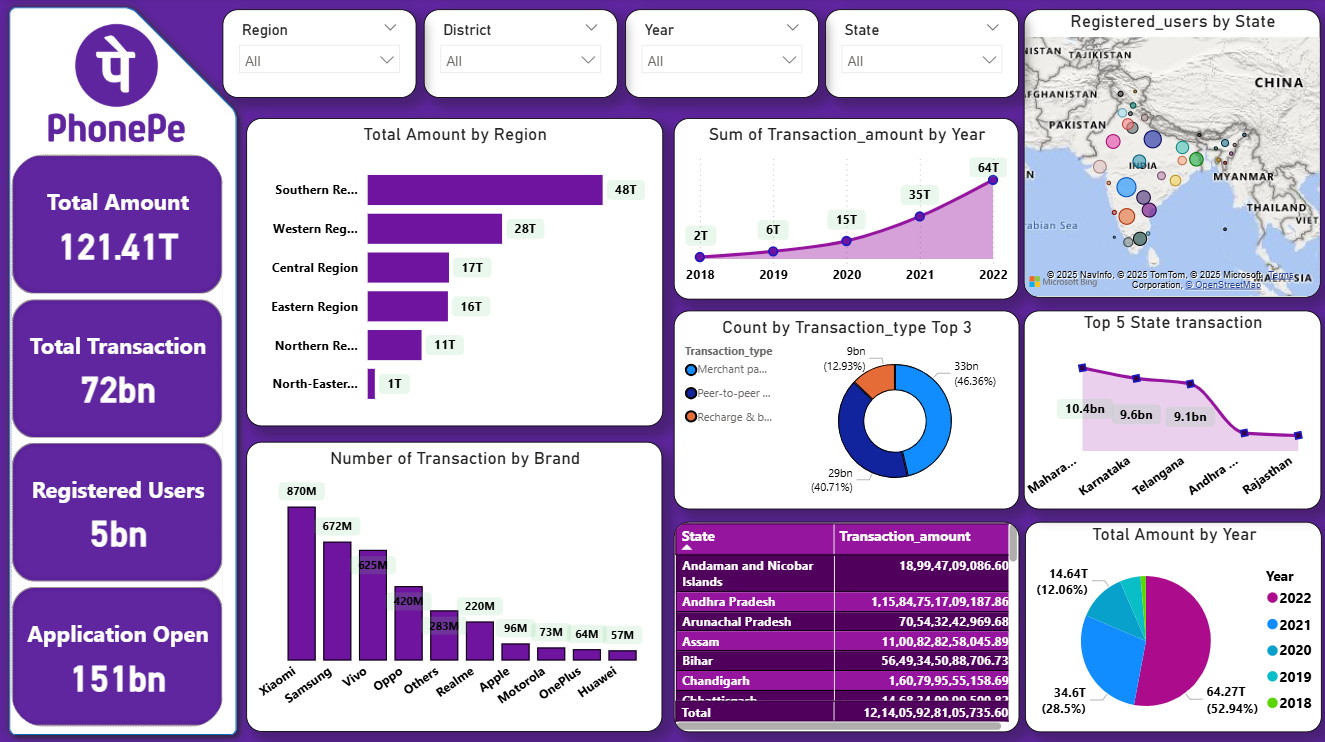

Layout of this report page (visuals, bound fields, positions):
{"tool":"powerbi","page":{"name":"Page 1","canvas":[1280,720],"ordinal":0},"visuals":[{"type":"shape","box":[0,0,237.4,720.4],"z":0},{"type":"image","box":[17.8,15.1,189.4,133.1],"z":1000},{"type":"cardVisual","fields":{"Data":["map_trans.Total Amount","map_trans.Total transaction","map_user.Total Users","map_user.Active Users"]},"box":[8.2,148.2,209.9,559.9],"z":2000},{"type":"barChart","title":"Total Amount by Region","fields":{"Category":["map_trans.Region"],"Y":["Sum(map_trans.Transaction_amount)"]},"box":[237.4,115.3,402.1,297.8],"z":3000},{"type":"columnChart","title":" Number of Transaction by Brand","fields":{"Category":["phonepe datasets.Brand"],"Y":["Sum(phonepe datasets.Transaction_count)"]},"box":[237.7,428.3,401.7,279.9],"z":4000},{"type":"lineChart","fields":{"Category":["map_trans.Year"],"Y":["Sum(map_trans.Transaction_amount)"]},"box":[650.3,115.8,333,174.9],"z":5000},{"type":"donutChart","title":"Count by Transaction_type Top 3","fields":{"Category":["phonepe dataset.Transaction_type"],"Y":["Sum(phonepe dataset.Transaction_count)"]},"box":[650.4,301.9,333.4,192.1],"z":6000},{"type":"tableEx","fields":{"Values":["map_trans.State","Sum(map_trans.Transaction_amount)"]},"box":[650.4,505,333.4,203.1],"z":7000},{"type":"map","title":" Registered_users by State ","fields":{"Size":["Sum(map_user.Registered_users)"],"Category":["map_user.State"],"Series":["map_user.State"]},"box":[988,11,286.8,278.6],"z":8000},{"type":"pieChart","fields":{"Category":["map_trans.Year"],"Y":["map_trans.Total Amount"]},"box":[989.4,505,286.8,203.1],"z":9000},{"type":"stackedAreaChart","title":"Top 5 State transaction","fields":{"Category":["map_trans.State"],"Y":["map_trans.Total transaction"]},"box":[988,302,287,192],"z":10000},{"type":"slicer","fields":{"Values":["map_trans.State"]},"box":[796.3,10.9,187,85.7],"z":11000},{"type":"slicer","fields":{"Values":["map_trans.Year"]},"box":[603,10.9,187,85.7],"z":12000},{"type":"slicer","fields":{"Values":["map_user.District"]},"box":[409,10.9,187,85.7],"z":13000},{"type":"slicer","fields":{"Values":["phonepe datasets.Region"]},"box":[215,10.9,187,85.7],"z":14000}]}

Visuals, with their boxes in screenshot pixels (x1, y1, x2, y2), scaled from the page's 1280x720 canvas onto the 1325x742 screenshot:
shape: box(0, 0, 246, 741)
image: box(18, 16, 214, 153)
cardVisual - map_trans.Total Amount x map_trans.Total transaction: box(8, 153, 226, 730)
"Total Amount by Region" barChart: box(246, 119, 662, 426)
" Number of Transaction by Brand" columnChart: box(246, 441, 662, 730)
lineChart - map_trans.Year x Sum(map_trans.Transaction_amount): box(673, 119, 1018, 300)
"Count by Transaction_type Top 3" donutChart: box(673, 311, 1018, 509)
tableEx - map_trans.State x Sum(map_trans.Transaction_amount): box(673, 520, 1018, 730)
" Registered_users by State " map: box(1023, 11, 1320, 298)
pieChart - map_trans.Year x map_trans.Total Amount: box(1024, 520, 1321, 730)
"Top 5 State transaction" stackedAreaChart: box(1023, 311, 1320, 509)
slicer - map_trans.State: box(824, 11, 1018, 100)
slicer - map_trans.Year: box(624, 11, 818, 100)
slicer - map_user.District: box(423, 11, 617, 100)
slicer - phonepe datasets.Region: box(223, 11, 416, 100)
